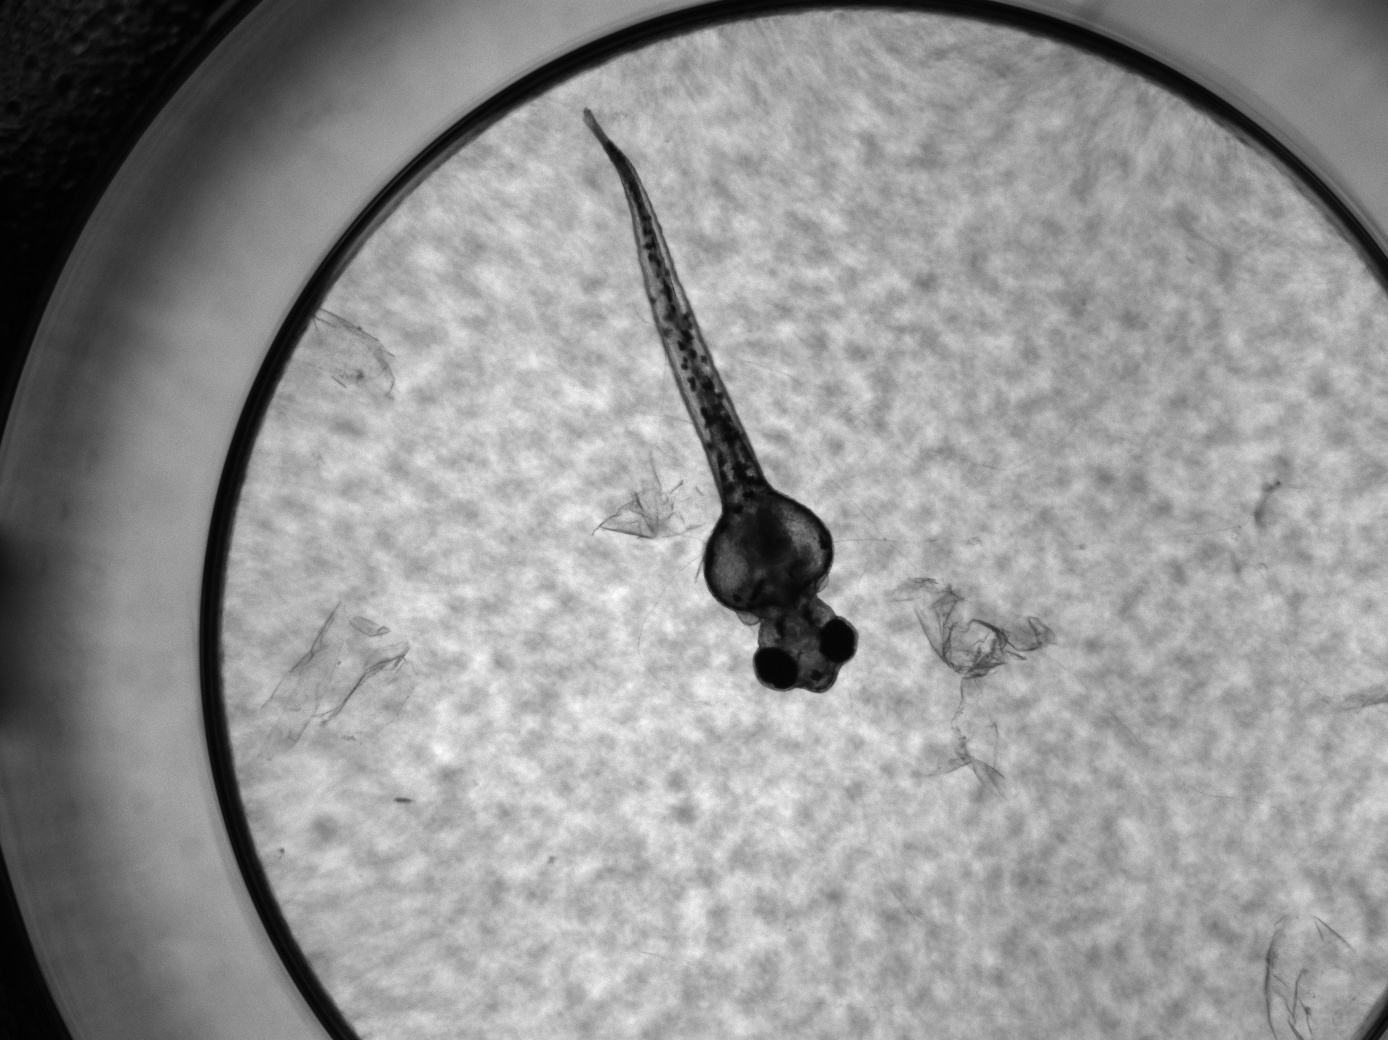debris: (888, 576, 1060, 779), (261, 599, 418, 745), (592, 453, 695, 537)
embryo: (583, 107, 861, 694)
eye: (754, 647, 798, 692), (819, 618, 858, 662)
yolksac: (702, 493, 835, 614)
